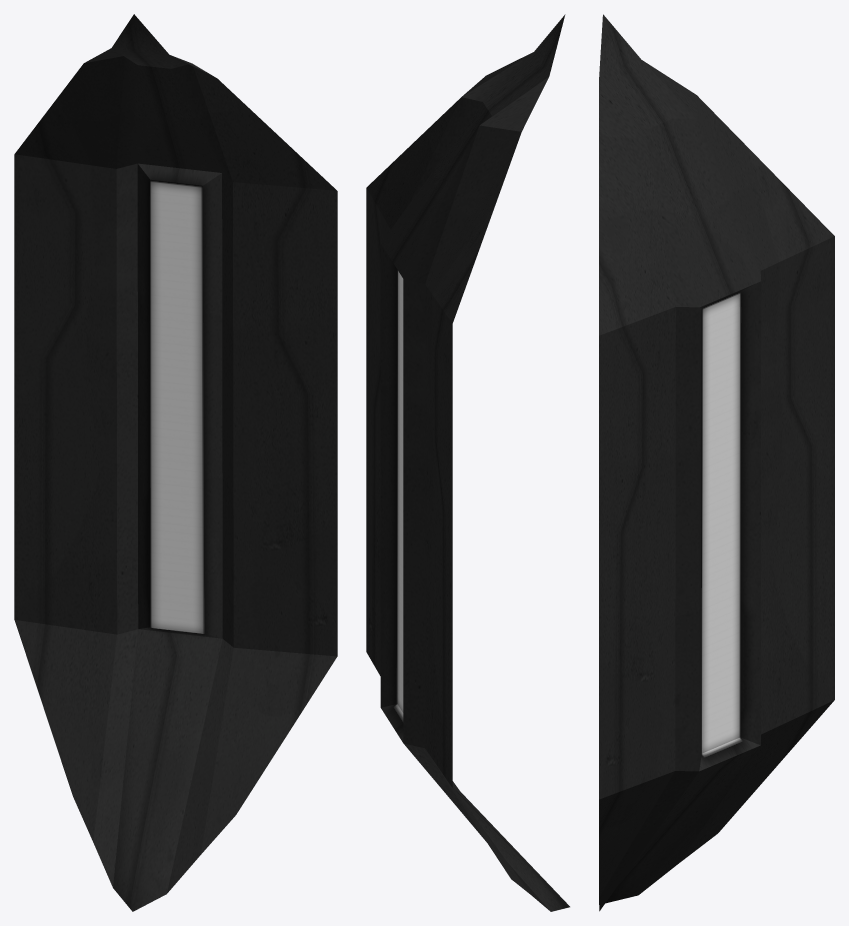
The model's file is WallInnerCorner.fbx.
The picture shows the model from 3 angles, left to right: view 1: azimuth 30°, elevation 25°; view 2: azimuth 150°, elevation 25°; view 3: azimuth 270°, elevation 25°; orthographic projection.
Visible parts, largest first — view 1: WallInnerCorner; view 2: WallInnerCorner; view 3: WallInnerCorner.
Boxes of the visible parts, left/top/right/bottom form: WallInnerCorner: left=14, top=14, right=337, bottom=911; WallInnerCorner: left=366, top=14, right=569, bottom=911; WallInnerCorner: left=599, top=14, right=834, bottom=911.
Bounding box in the file's own units: 0.8916 × 3.73 × 0.8922.
